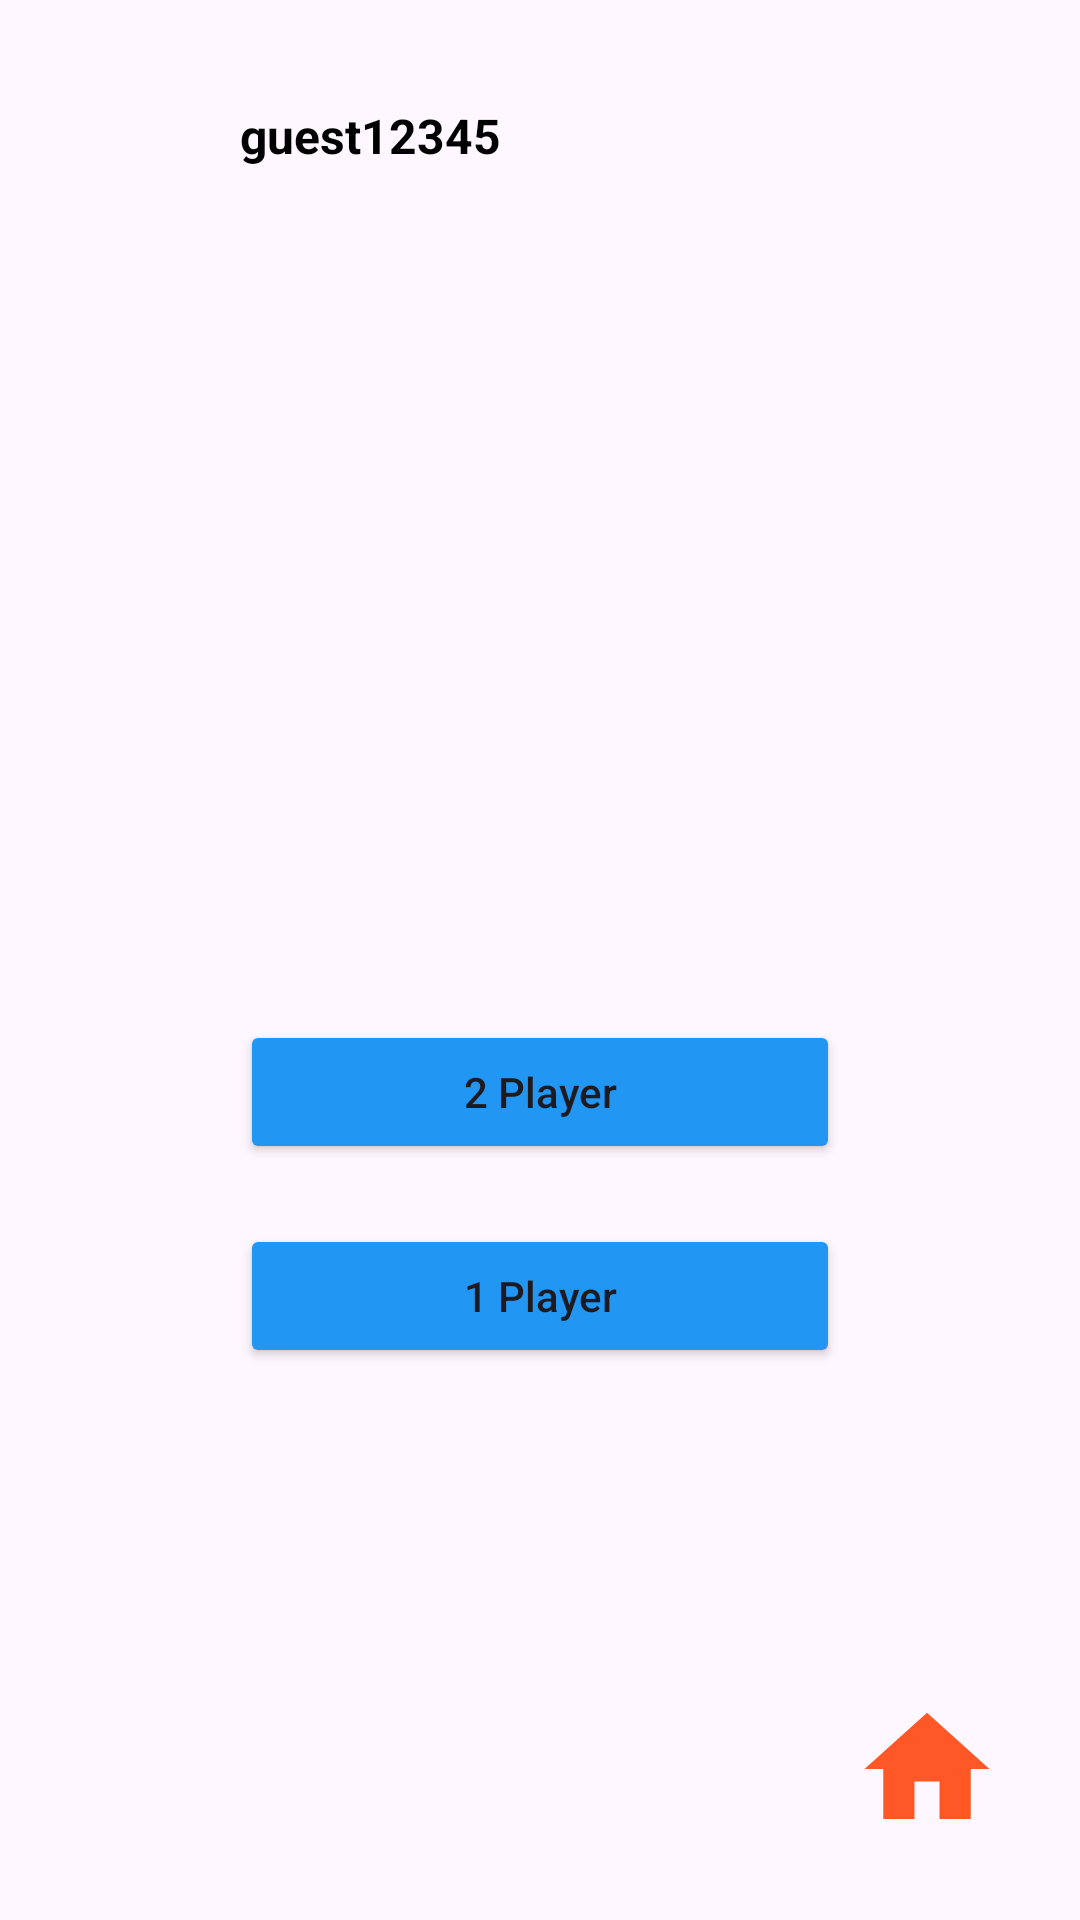

Where icons sit on this 1080px×1920px app screen, as (x1, y1, x2, y2):
Home button: (865, 1713, 989, 1819)
